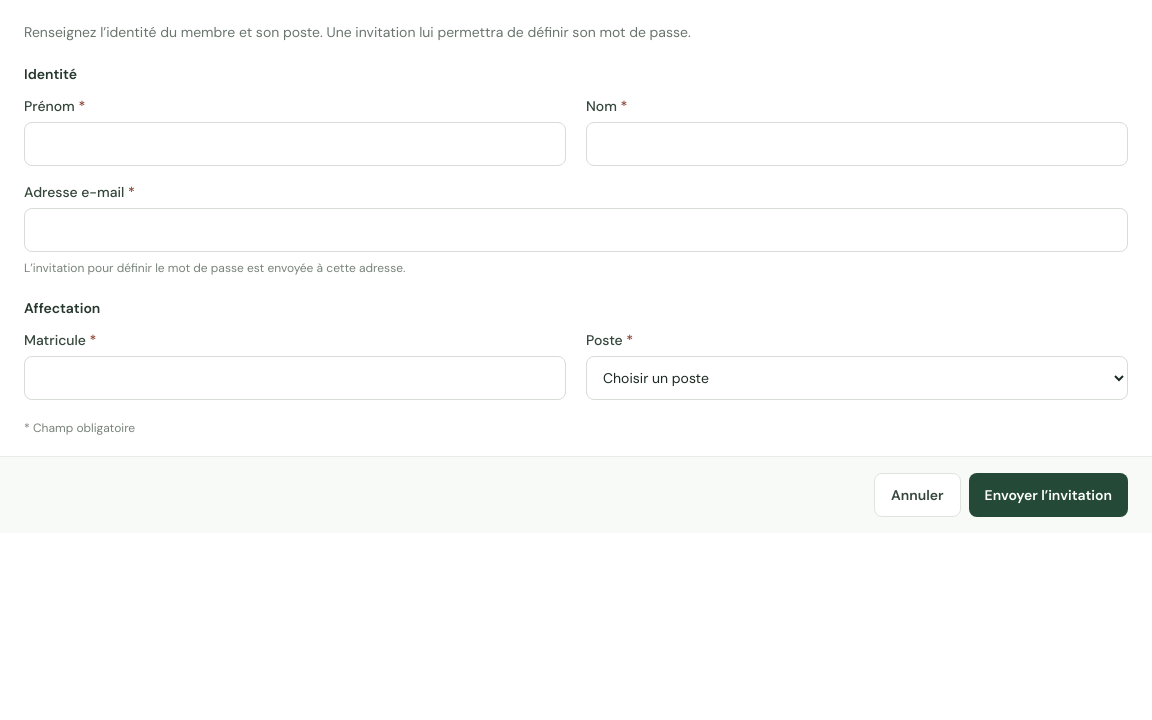
Test: EmployeeFormComponent › conserve les saisies après une erreur d’envoi
The image size is (1152, 720).
Step 1. Type " Ada " into the field named "firstName" → [295, 144], box [24,122,566,166]
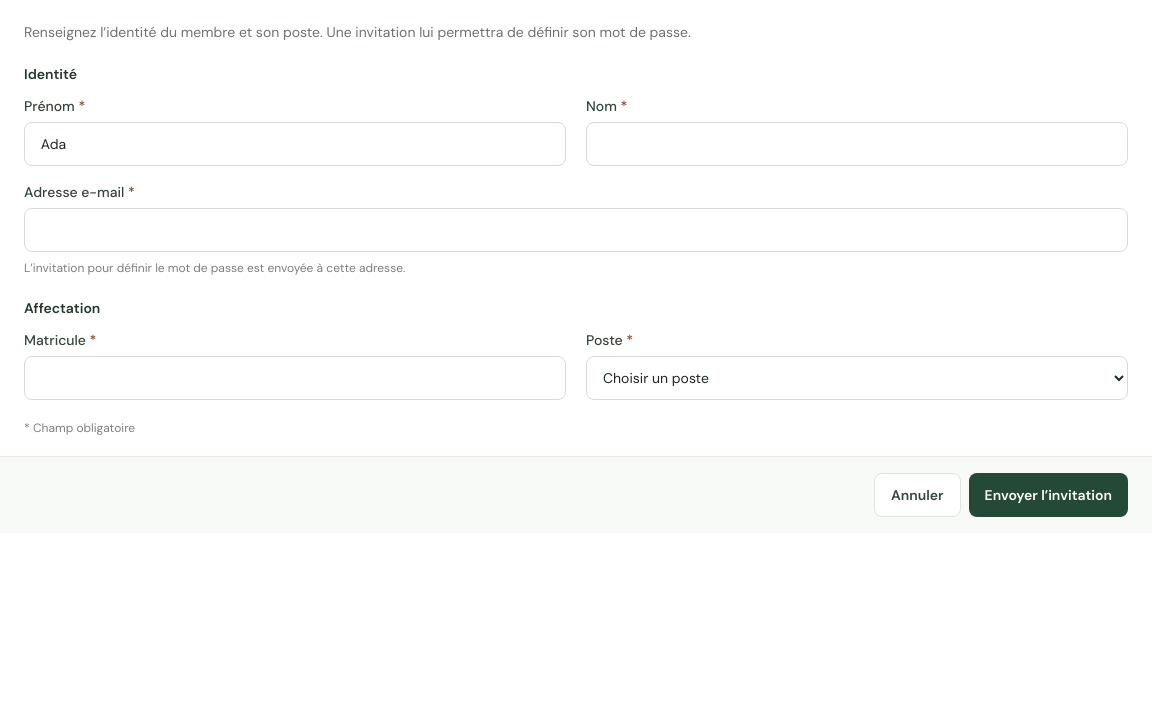
Step 2. Type " Lovelace " into the field labelled "Nom" → [857, 144], box [586,122,1128,166]
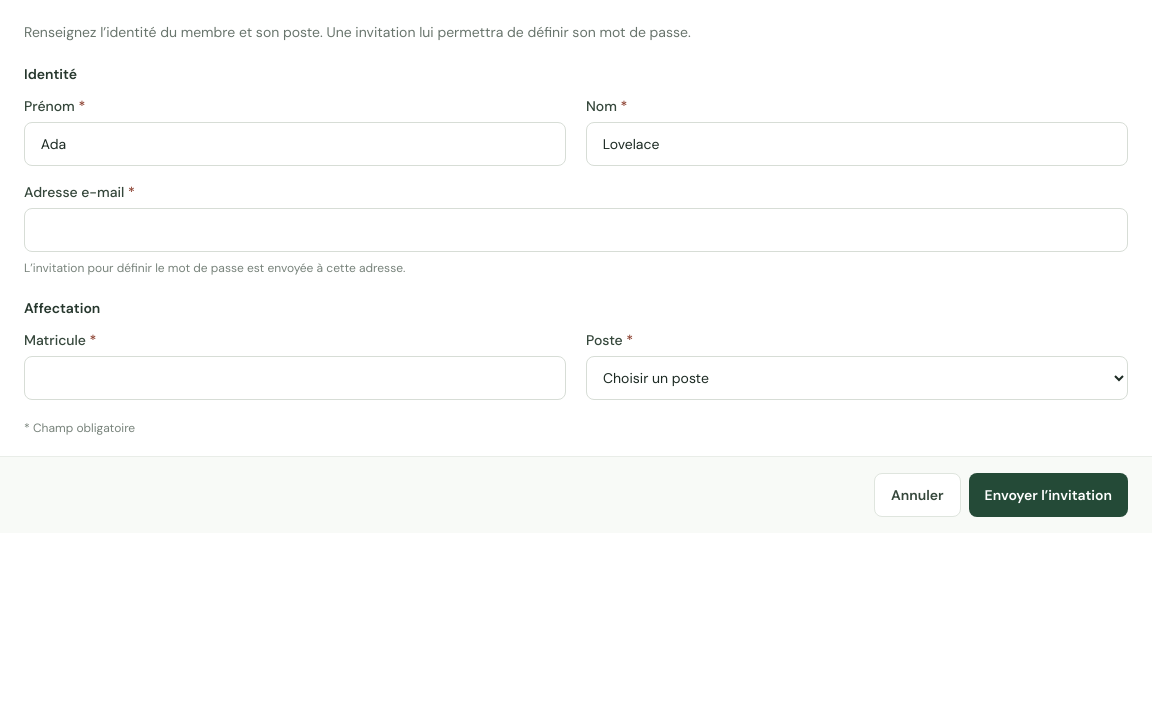
Step 3. Type "ada@example.test" into the field named "email" → [576, 230], box [24,208,1128,252]
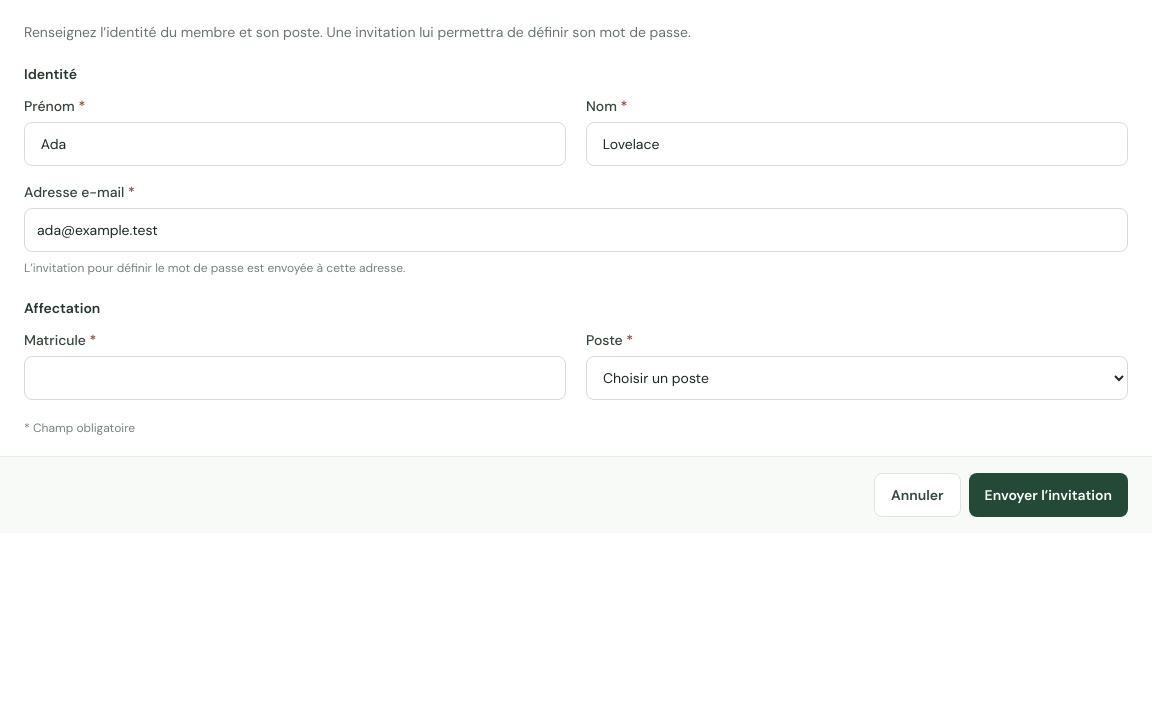
Step 4. Type " EMP-001 " into the field labelled "Matricule" → [295, 378], box [24,356,566,400]
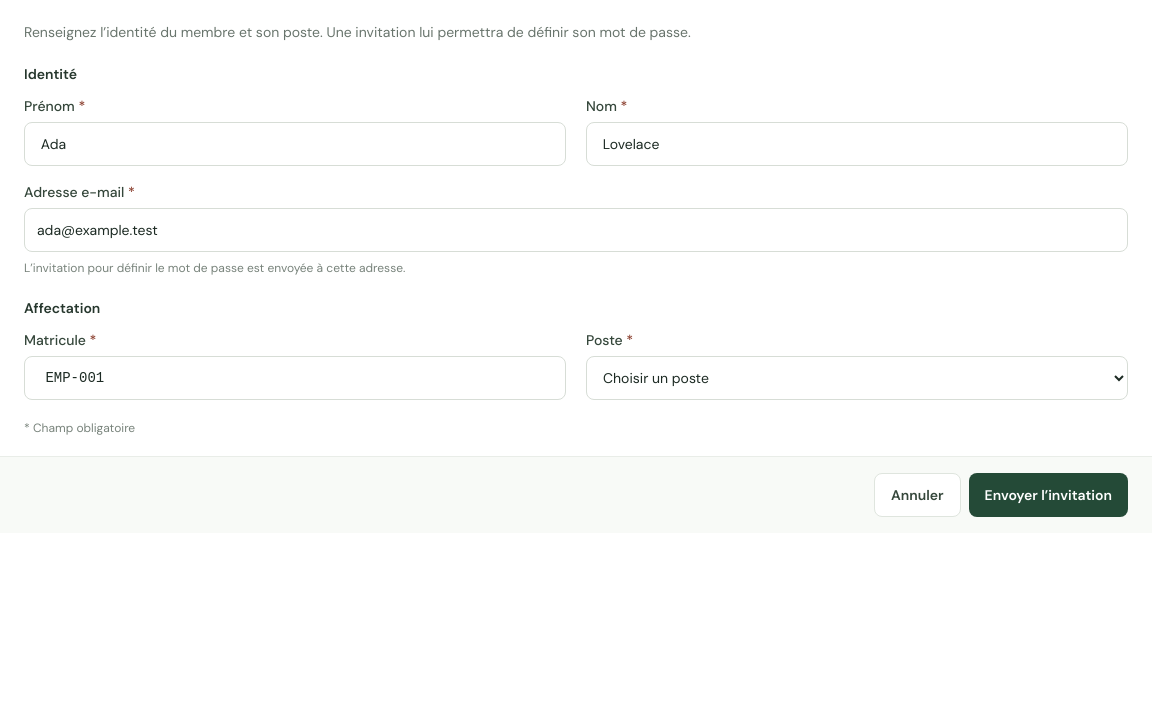
Step 5. Select "Enseignante" in the dropdown labelled "Poste" → [857, 378], box [586,356,1128,400]
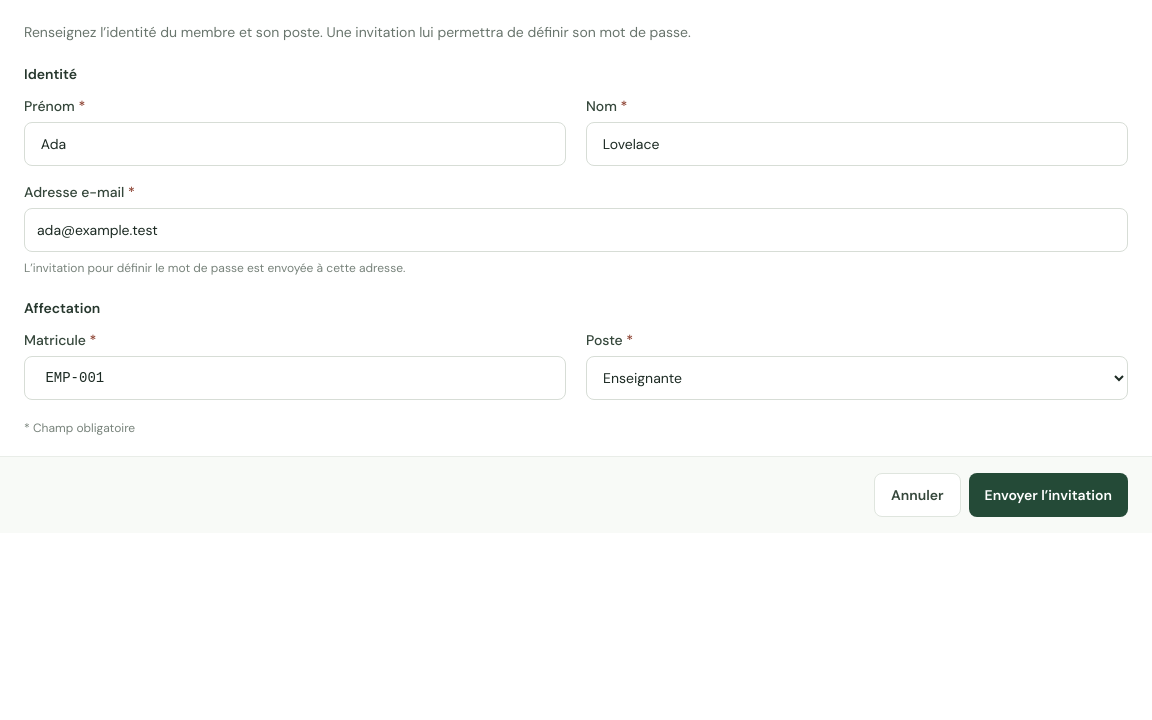
Step 6. Submit the form
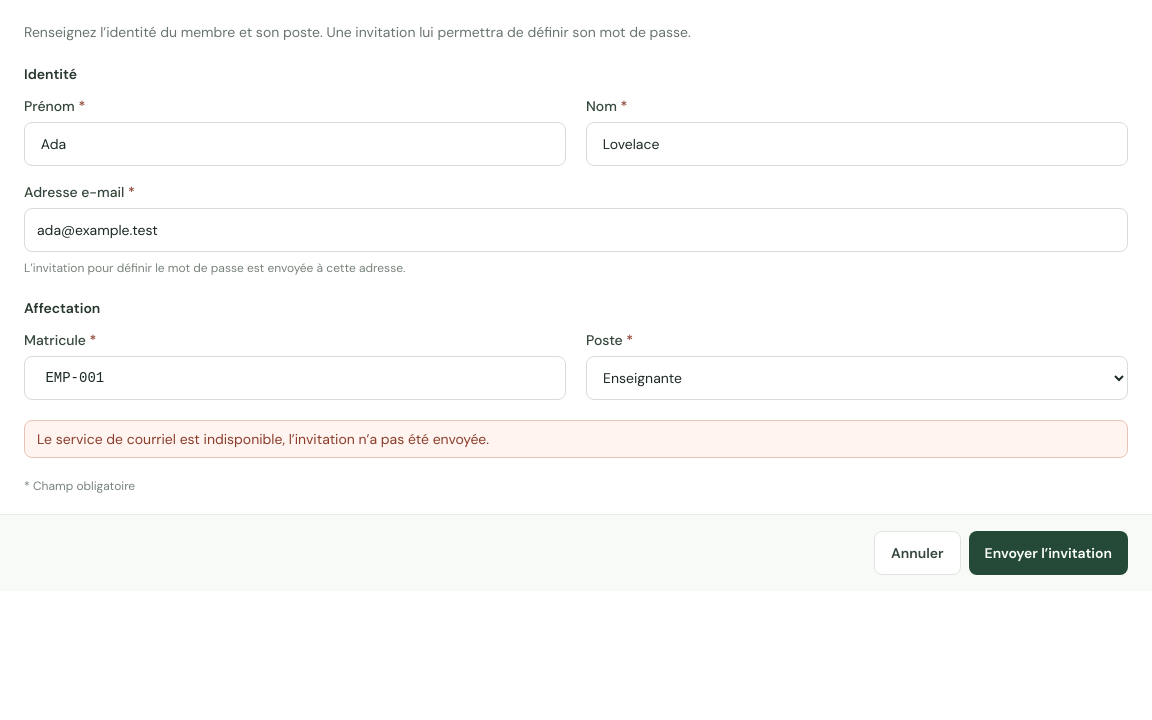
Check: the message with class "form-error" shows "courriel est indisponible", box [37,430,489,448]
